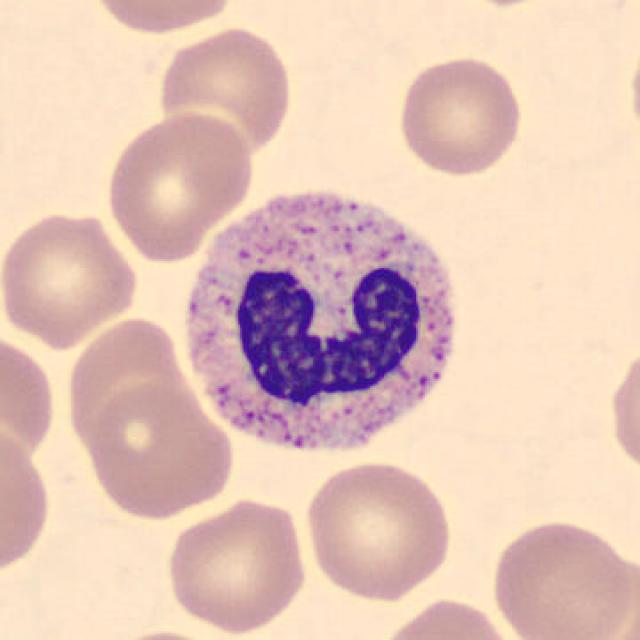Neutrophil: (175, 176, 470, 476)
RBC: (101, 108, 258, 264), (300, 456, 457, 604), (78, 379, 238, 522), (160, 494, 311, 636), (0, 206, 142, 349), (155, 21, 297, 159), (486, 515, 636, 640), (60, 314, 186, 462), (393, 51, 526, 178), (0, 421, 55, 582), (0, 326, 60, 467), (373, 594, 523, 640), (85, 0, 240, 37), (606, 337, 640, 483), (627, 30, 640, 151), (601, 599, 638, 640), (453, 0, 560, 11)
